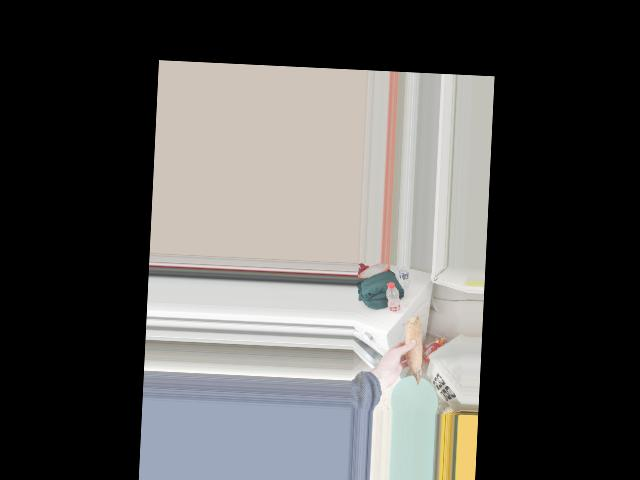sweet_potato: (398, 321, 423, 383)
